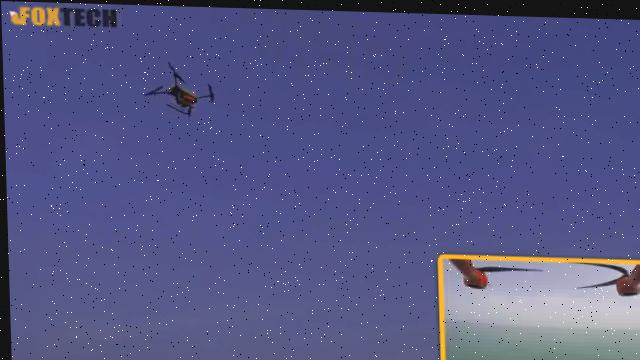drone: (132, 57, 224, 116)
